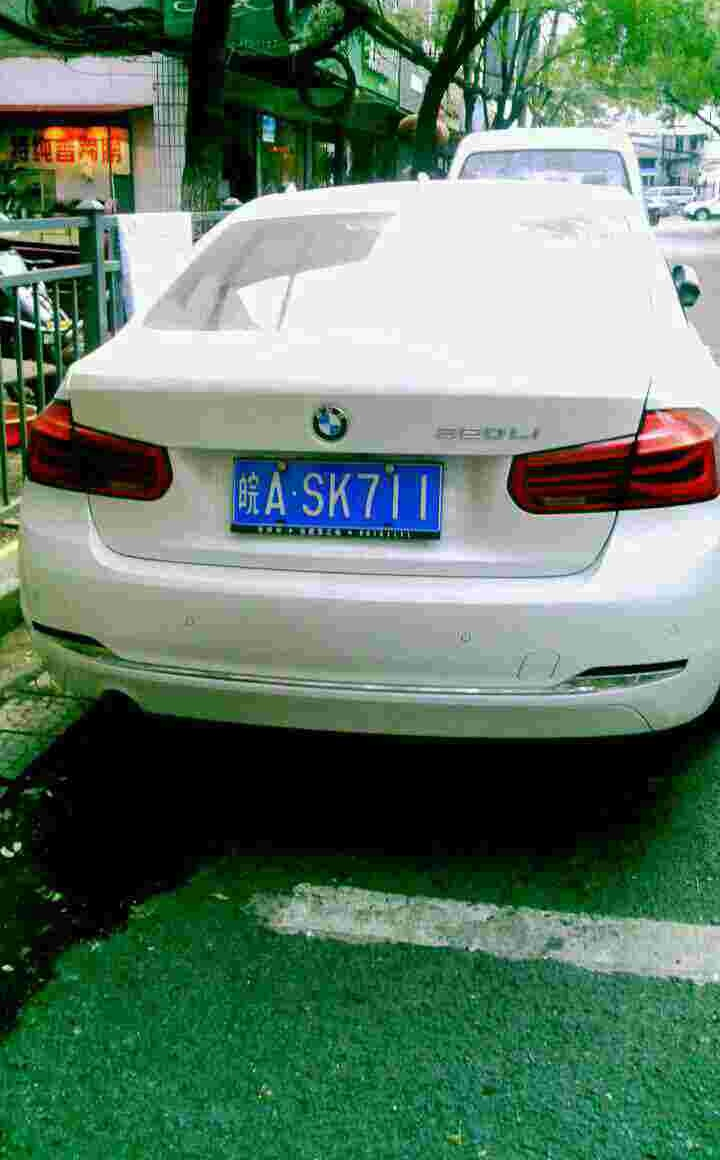license_plate: (225, 458, 447, 539)
